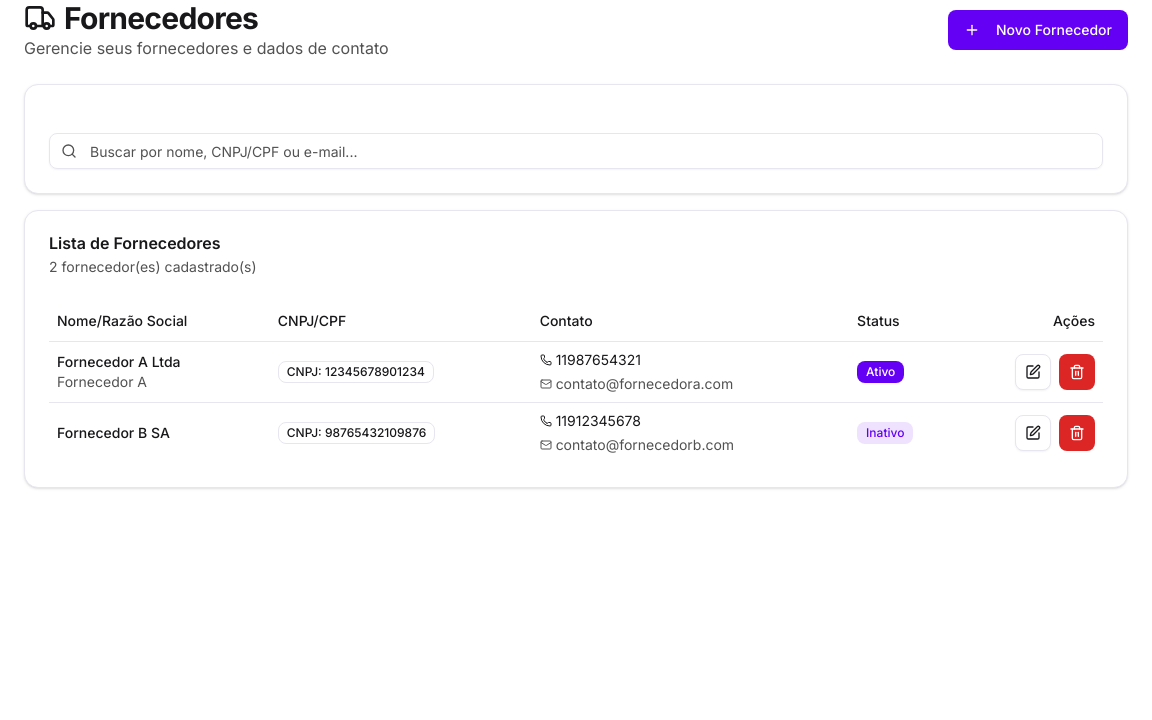
SuppliersPage › shows alert dialog when clicking delete
Step 1. Click the button titled "excluir" in the row of "Fornecedor A Ltda" → point(1077, 372), box [1059, 354, 1095, 390]
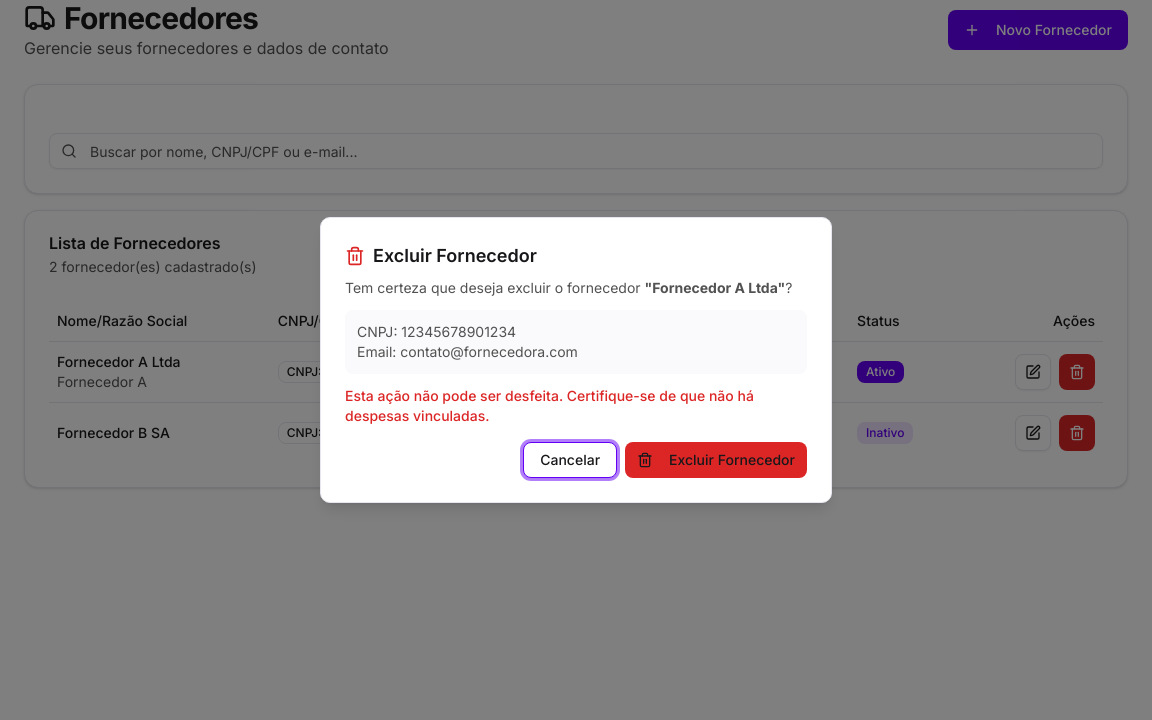
Check: the text "Tem certeza que deseja excluir o fornecedor" is shown, box [345, 279, 644, 296]
